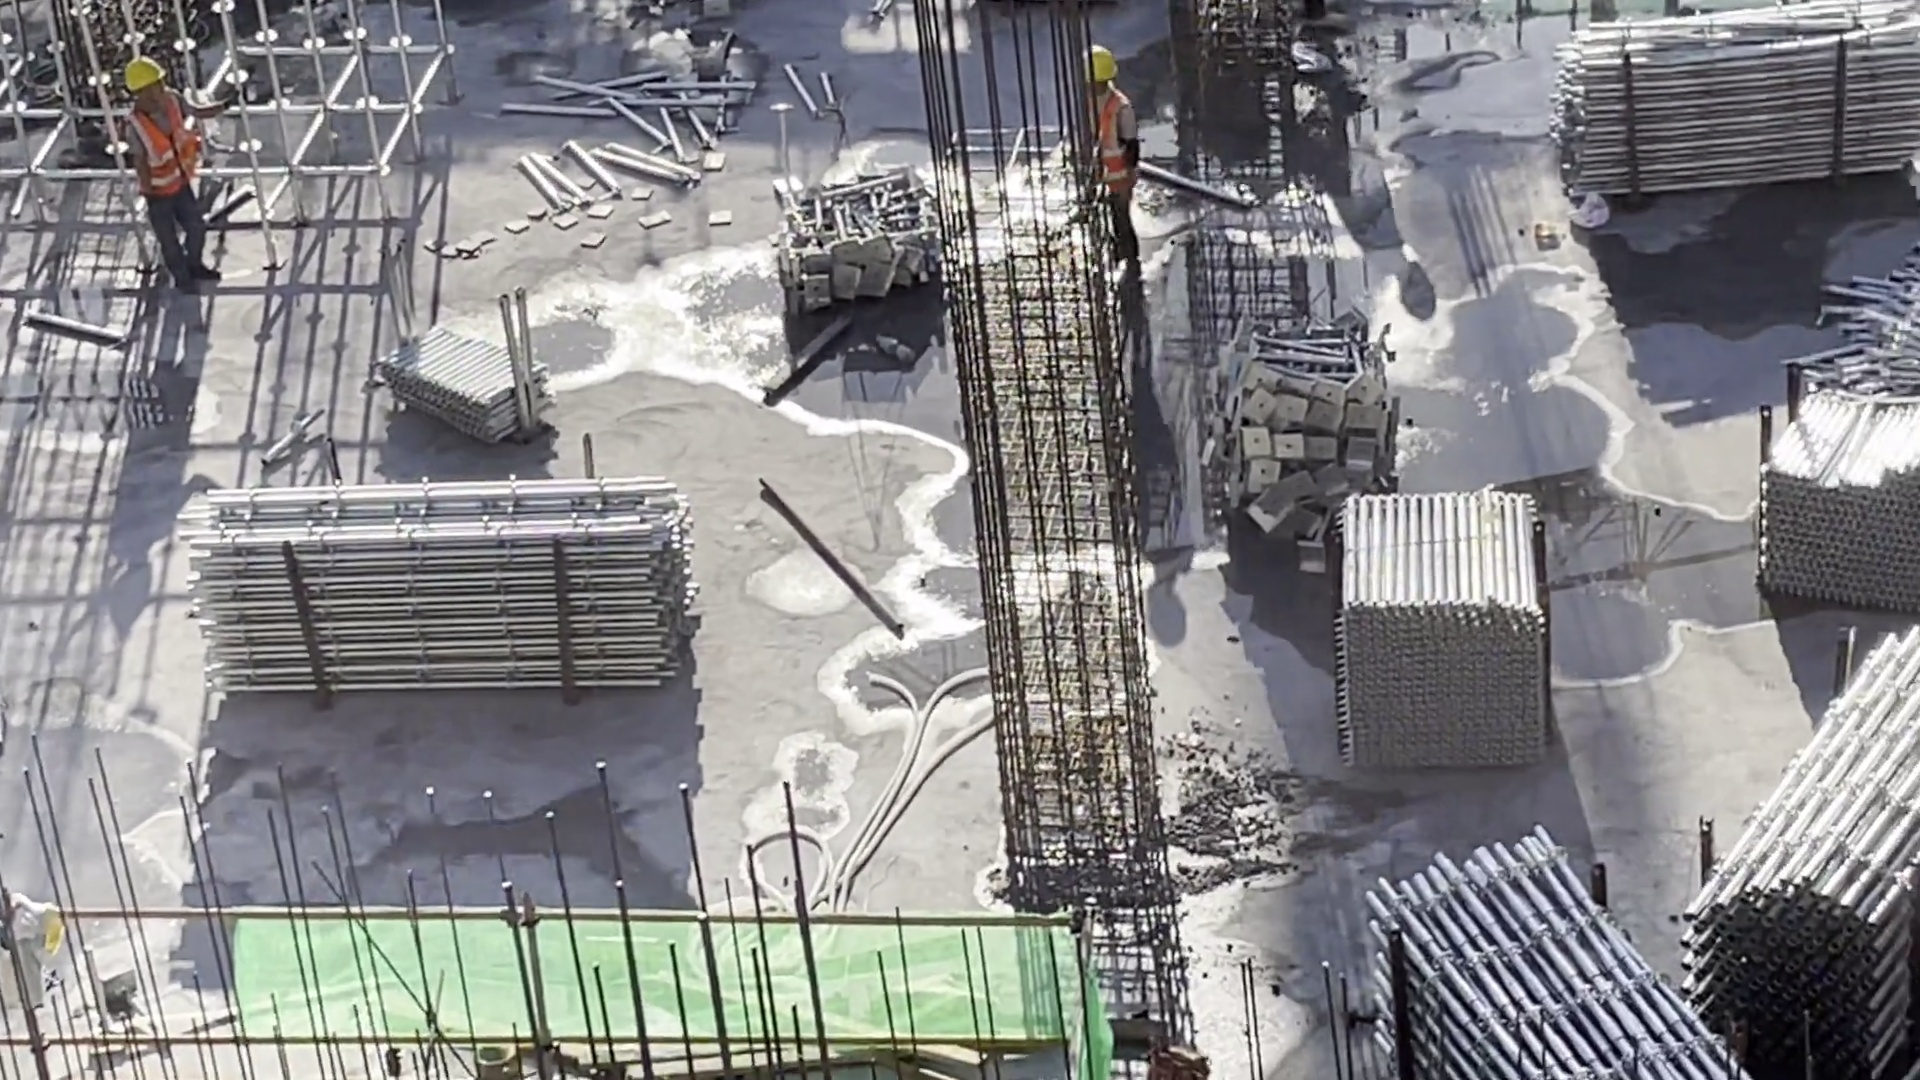helmet: (114, 54, 173, 91), (1069, 45, 1119, 83)
person: (1058, 30, 1159, 316), (106, 63, 226, 286)
scaffold: (173, 475, 683, 681), (1358, 836, 1749, 1080), (1707, 613, 1915, 1068), (1330, 494, 1582, 774), (1553, 11, 1909, 180), (1207, 318, 1397, 547), (1725, 384, 1920, 593), (766, 159, 920, 307), (378, 318, 554, 433), (1821, 259, 1909, 385)
vest: (114, 91, 208, 194), (1065, 83, 1131, 197)
